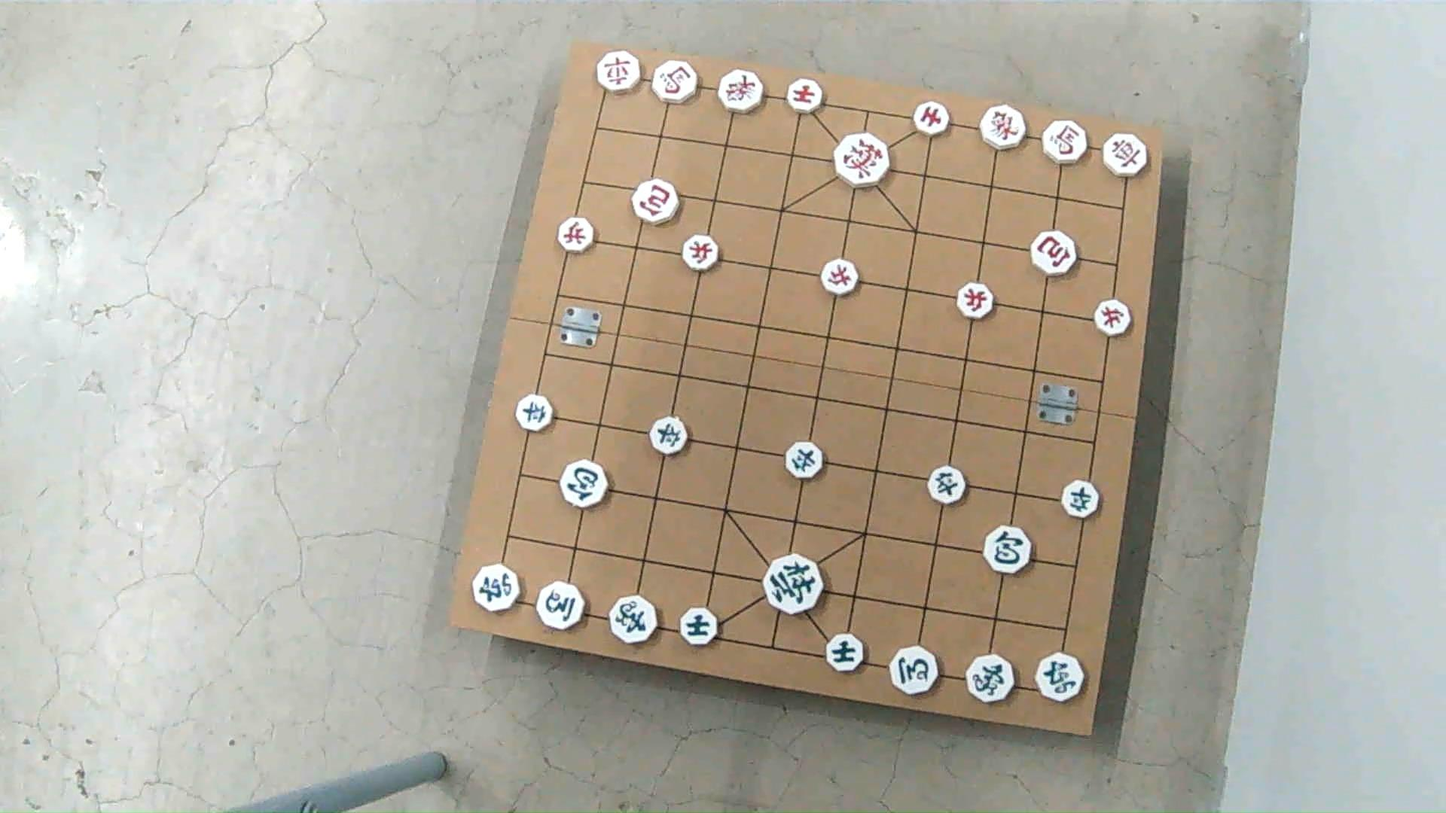cha_green: (1034, 653, 1082, 702), (471, 565, 518, 613)
cha_red: (1103, 133, 1147, 176), (599, 51, 642, 93)
jol_green: (649, 418, 687, 457), (929, 466, 966, 504), (1063, 479, 1100, 517), (786, 441, 823, 479), (514, 398, 551, 434)
jol_red: (1094, 297, 1130, 334), (819, 260, 856, 296), (684, 235, 720, 272), (958, 280, 995, 316), (557, 217, 593, 251)
ma_green: (537, 580, 584, 629), (891, 646, 938, 694)
ma_red: (1042, 120, 1087, 163), (651, 62, 695, 105)
po_green: (985, 526, 1032, 574), (559, 461, 606, 508)
po_red: (1030, 230, 1075, 275), (632, 179, 678, 223)
sa_green: (825, 633, 864, 671), (678, 607, 715, 646)
sa_red: (916, 103, 952, 138), (789, 79, 824, 114)
sang_green: (609, 595, 657, 642), (966, 655, 1013, 703)
sang_red: (979, 105, 1024, 151), (718, 69, 762, 112)
wang_green: (765, 556, 823, 614)
wang_red: (836, 136, 890, 187)
